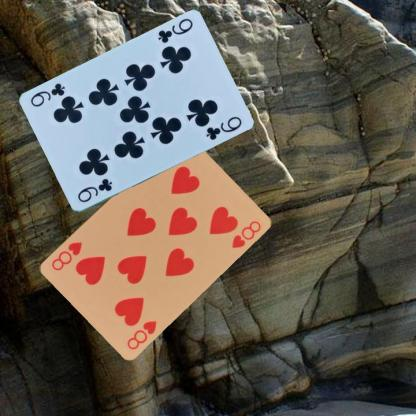8h: (124, 318, 158, 350)
9c: (155, 16, 194, 45), (75, 176, 113, 204)
